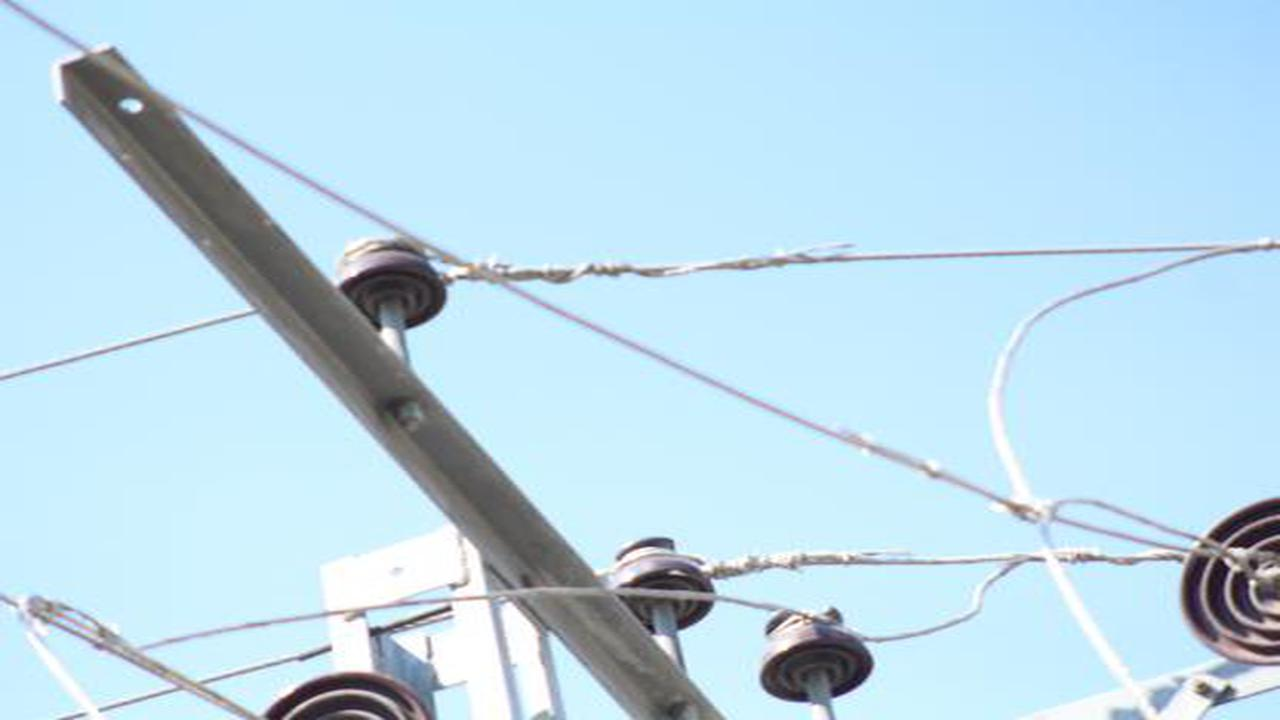insulator_pin: (756, 602, 879, 709), (602, 533, 721, 629), (333, 234, 448, 330)
